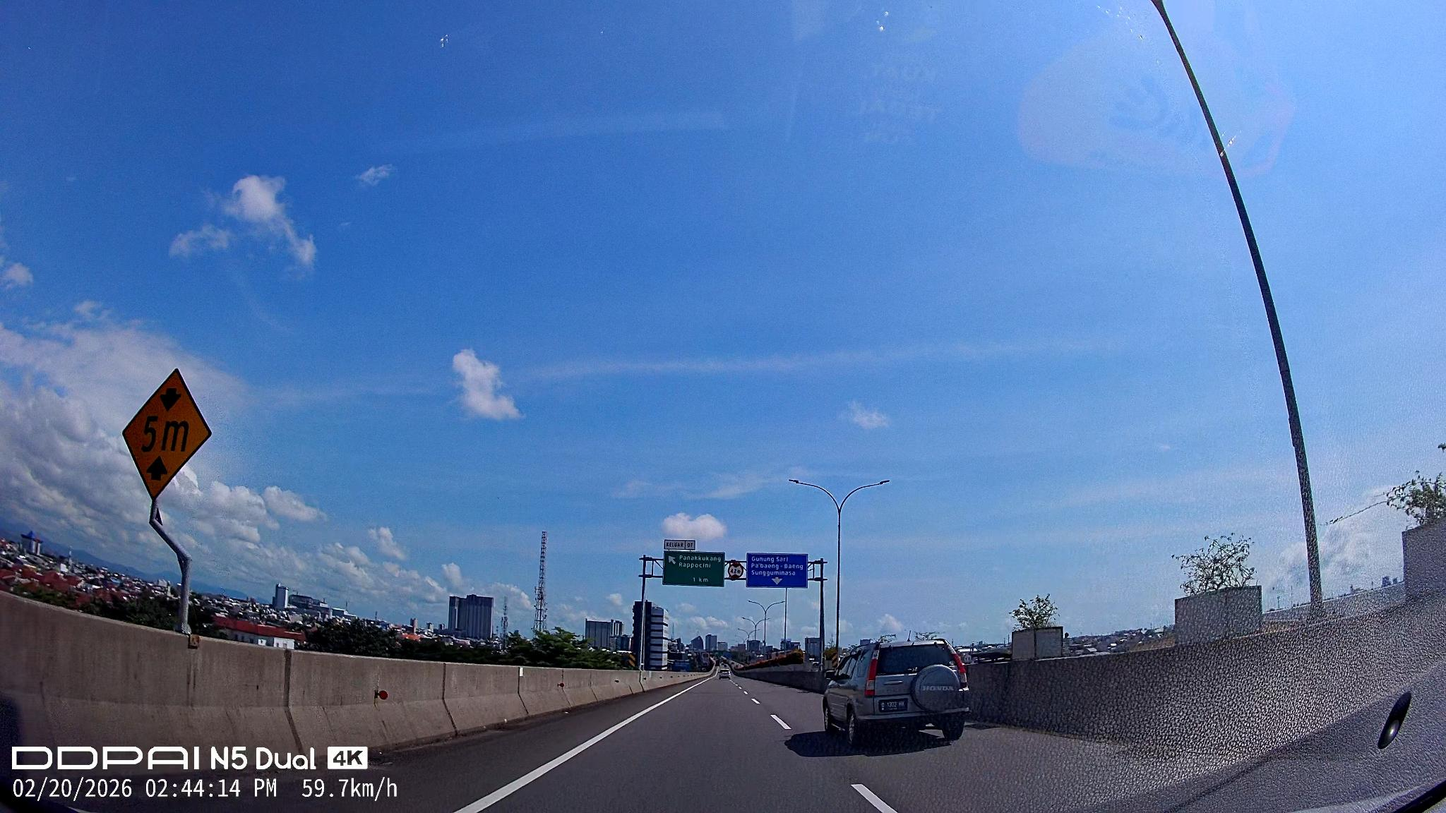rambu_teks: (662, 550, 725, 587), (746, 553, 809, 589)
